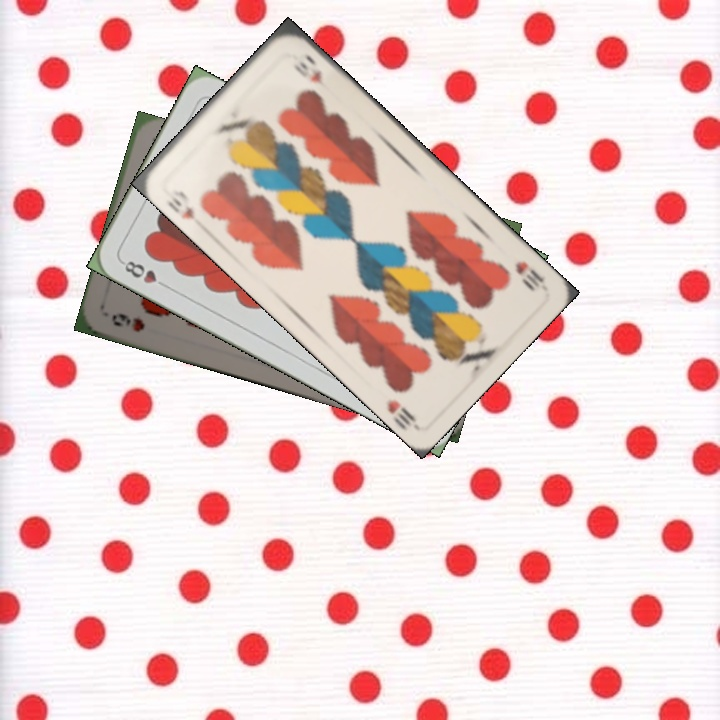H10: (164, 185, 206, 231), (511, 257, 547, 294)
H8: (117, 256, 172, 291)
H9: (107, 309, 148, 335)
